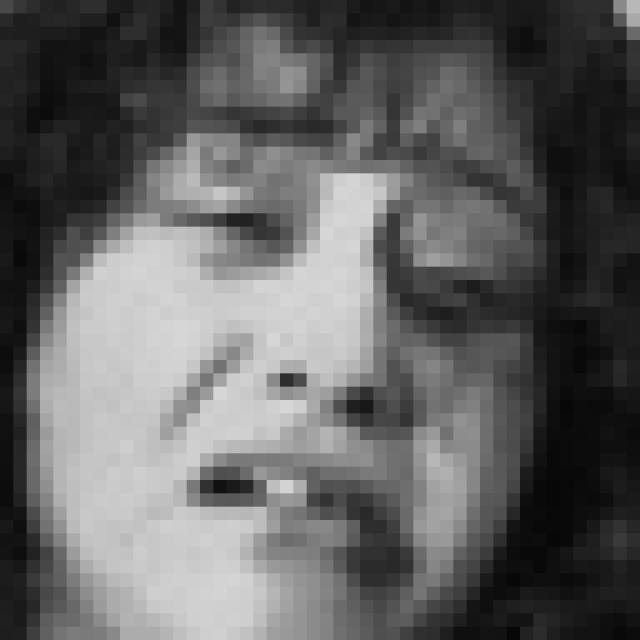sad: (142, 98, 544, 600)
